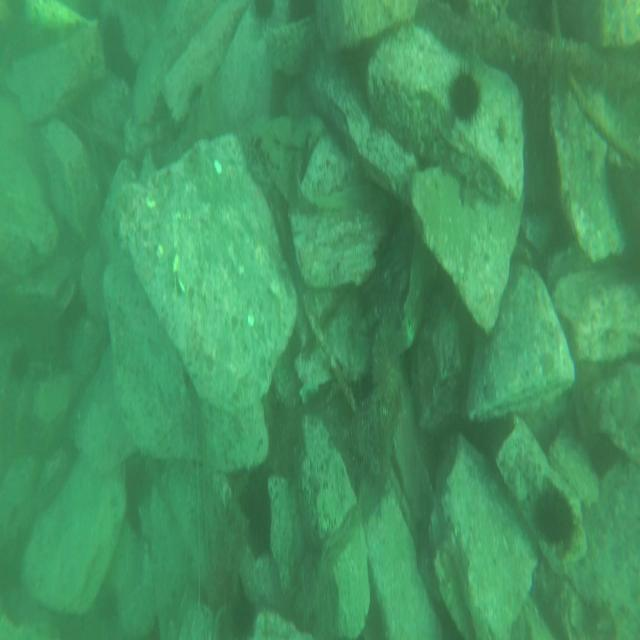echinus: (530, 473, 577, 563), (446, 55, 484, 131)
